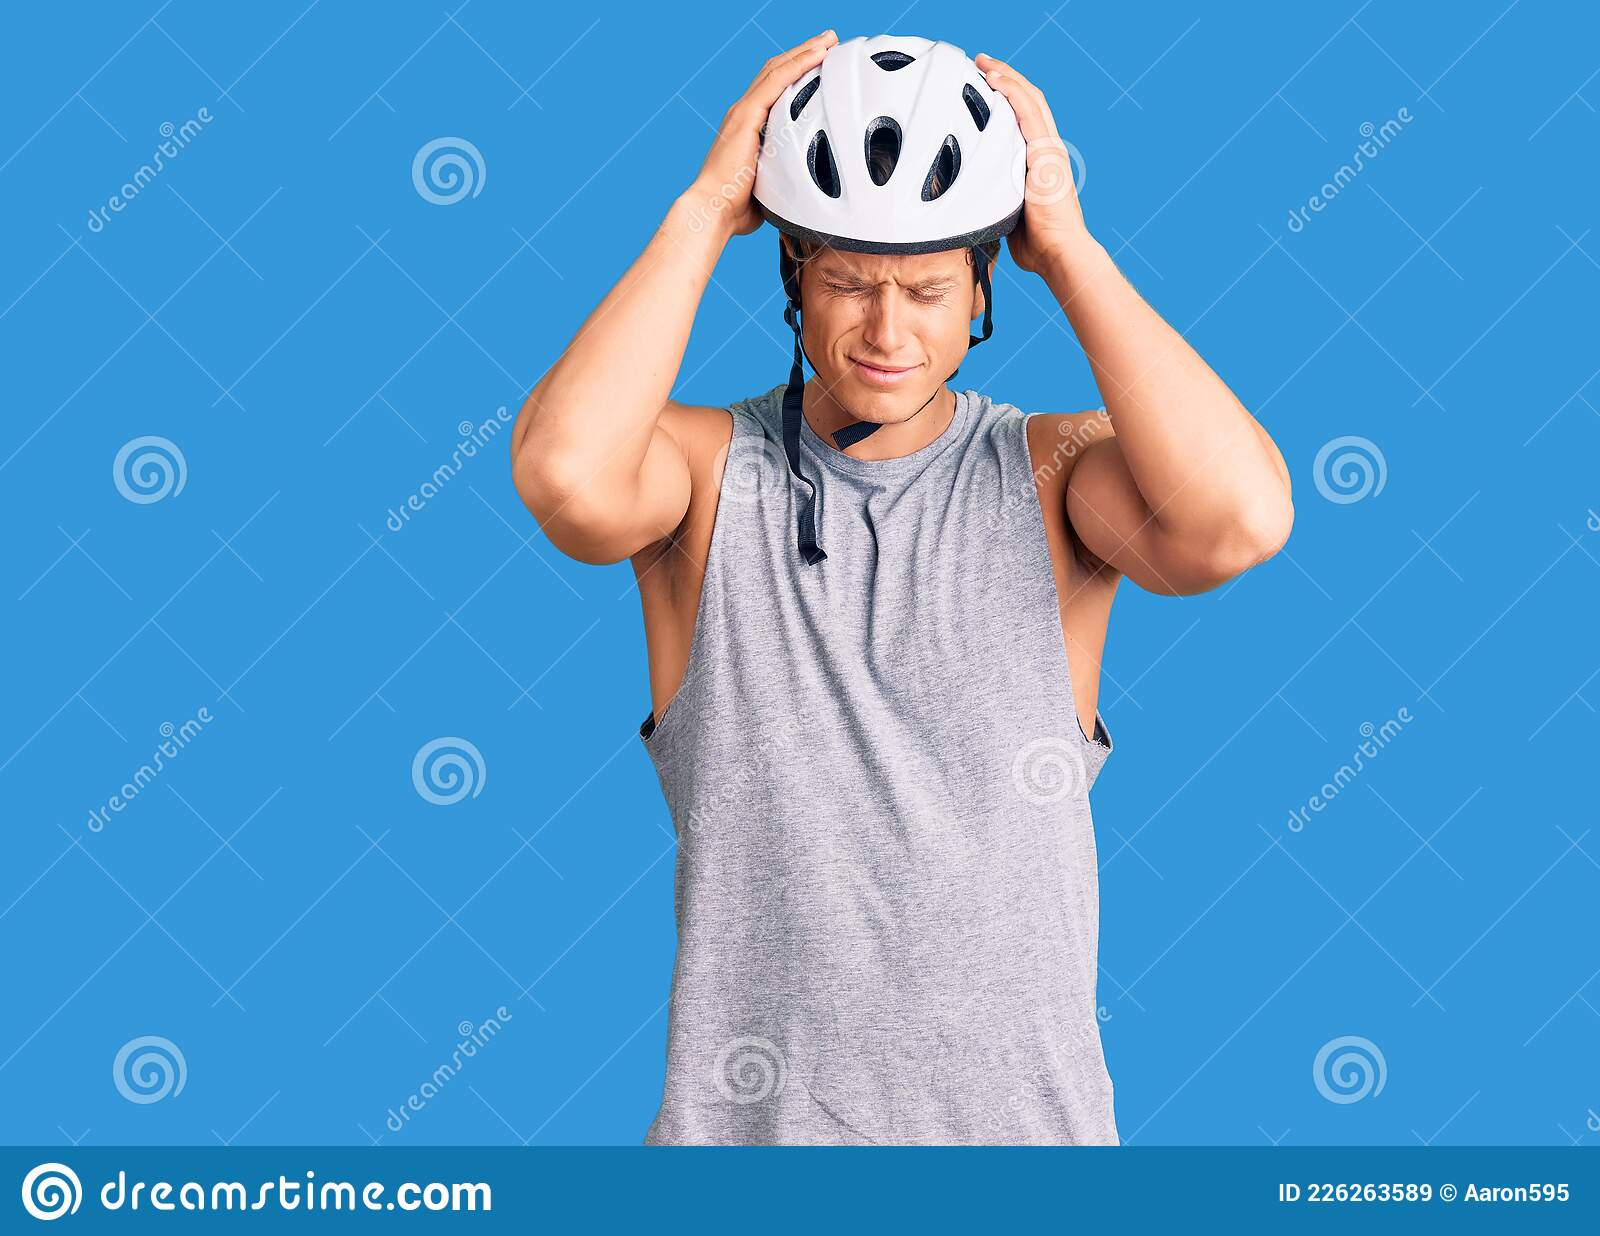helmet: (751, 36, 1030, 425)
